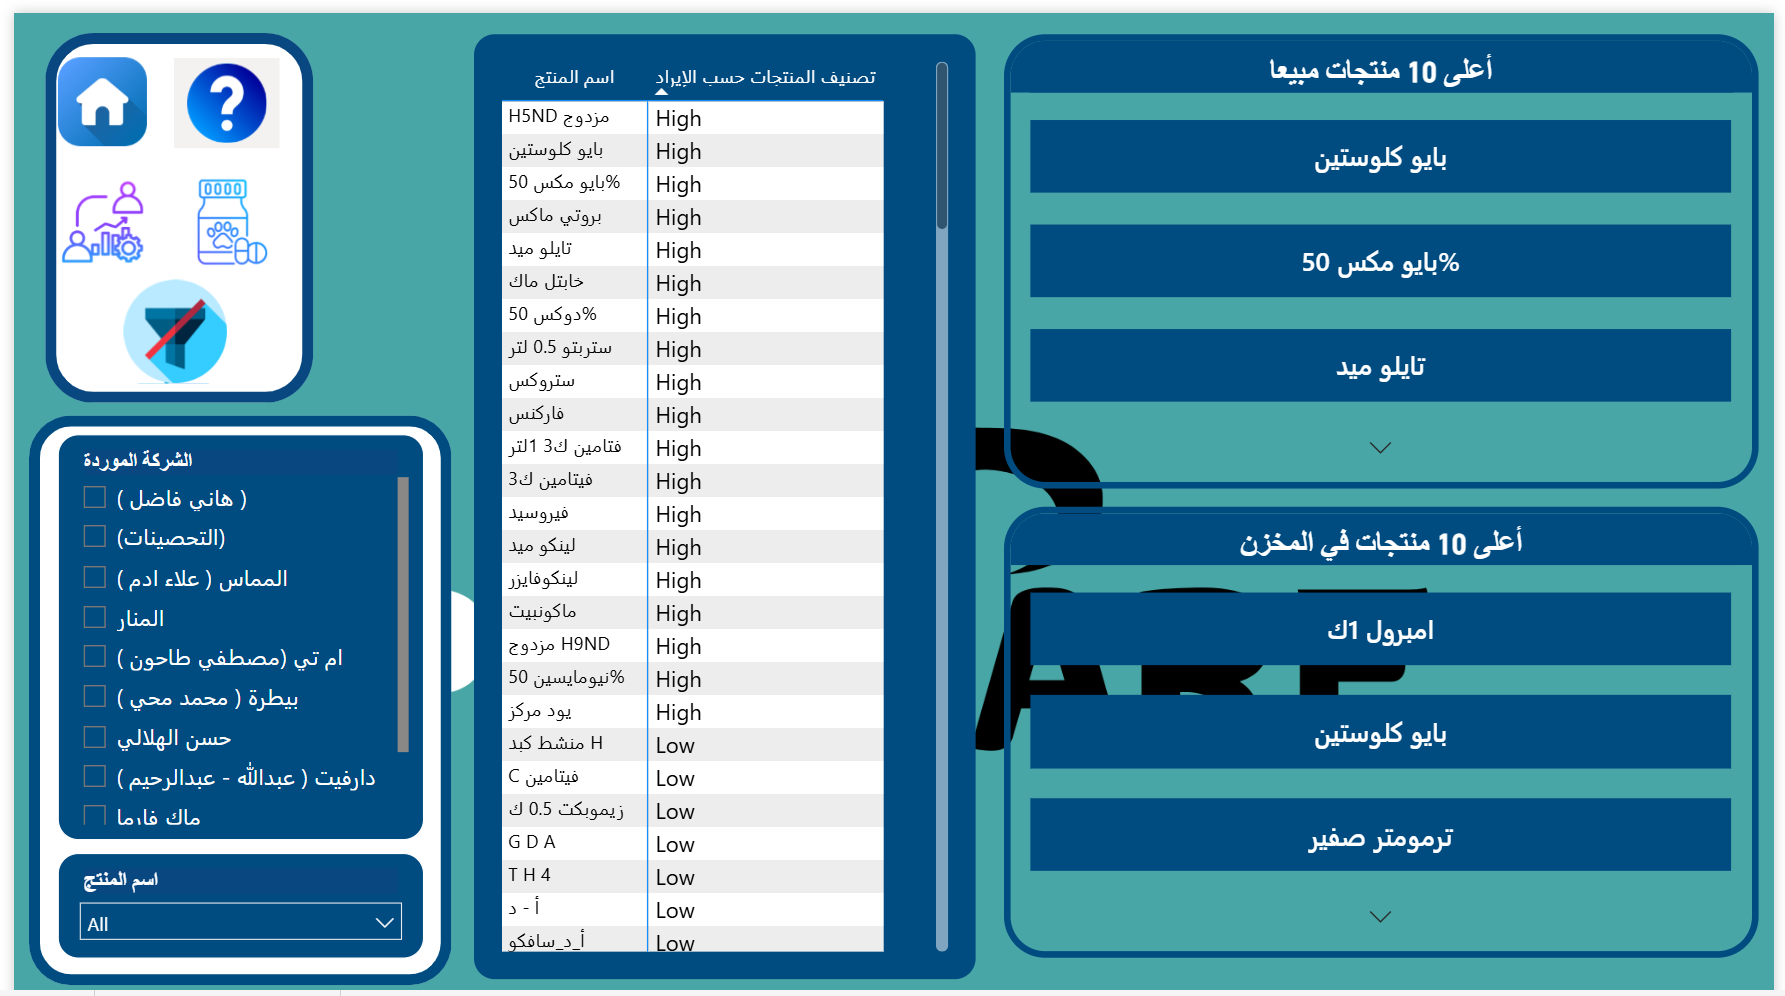

The page's visual inventory and layout, read from the dashboard file:
{"tool":"powerbi","page":{"name":"Product Analysis","canvas":[1280,720],"ordinal":3},"visuals":[{"type":"cardVisual","title":"أعلى 10 منتجات مبيعا","fields":{"Rows":["المخزون.اسم المنتج"]},"box":[720.4,15.1,548.9,330.7],"z":0},{"type":"cardVisual","title":"أعلى 10 منتجات في المخزن","fields":{"Rows":["المخزون.اسم المنتج"]},"box":[720.4,359.5,548.9,328],"z":1000},{"type":"pivotTable","title":"أعلى الموارد","fields":{"Rows":["المخزون.اسم المنتج"],"Values":["المخزون.تصنيف المنتجات حسب الإيراد"]},"box":[334.8,15.1,365,687.5],"z":2000},{"type":"shape","box":[22.4,14.6,194.9,269],"z":3000},{"type":"actionButton","title":"Home Button","box":[26.8,28.3,75.5,72.7],"z":4000},{"type":"actionButton","box":[116,32.4,76.8,65.9],"z":5000},{"type":"actionButton","title":"Filter Button","box":[70.7,209.4,90.6,64.5],"z":6000},{"type":"actionButton","title":"UnFilter Button","box":[64.4,190.1,105.6,83.1],"z":7000},{"type":"actionButton","title":"Home Button","box":[26.8,116.1,75.5,71.4],"z":8000},{"type":"actionButton","title":"Home Button","box":[120.1,116.1,78.2,71.4],"z":9000},{"type":"shape","box":[11,292.3,307.4,414.4],"z":10000},{"type":"slicer","fields":{"Values":["المخزون.الشركة الموردة "]},"box":[31.6,306,266.2,295],"z":11000},{"type":"slicer","fields":{"Values":["المخزون.اسم المنتج"]},"box":[31.6,610.6,266.2,76.8],"z":12000}]}

Visuals, with their boxes in screenshot pixels (x1, y1, x2, y2), scaled from the page's 1280x720 canvas onto the 1785x996 screenshot:
"أعلى 10 منتجات مبيعا" cardVisual: [1005, 21, 1770, 478]
"أعلى 10 منتجات في المخزن" cardVisual: [1005, 497, 1770, 951]
"أعلى الموارد" pivotTable: [467, 21, 976, 972]
shape: [31, 20, 303, 392]
"Home Button" actionButton: [37, 39, 143, 140]
actionButton: [162, 45, 269, 136]
"Filter Button" actionButton: [99, 290, 225, 379]
"UnFilter Button" actionButton: [90, 263, 237, 378]
"Home Button" actionButton: [37, 161, 143, 259]
"Home Button" actionButton: [167, 161, 277, 259]
shape: [15, 404, 444, 978]
slicer - المخزون.الشركة الموردة : [44, 423, 415, 831]
slicer - المخزون.اسم المنتج: [44, 845, 415, 951]
